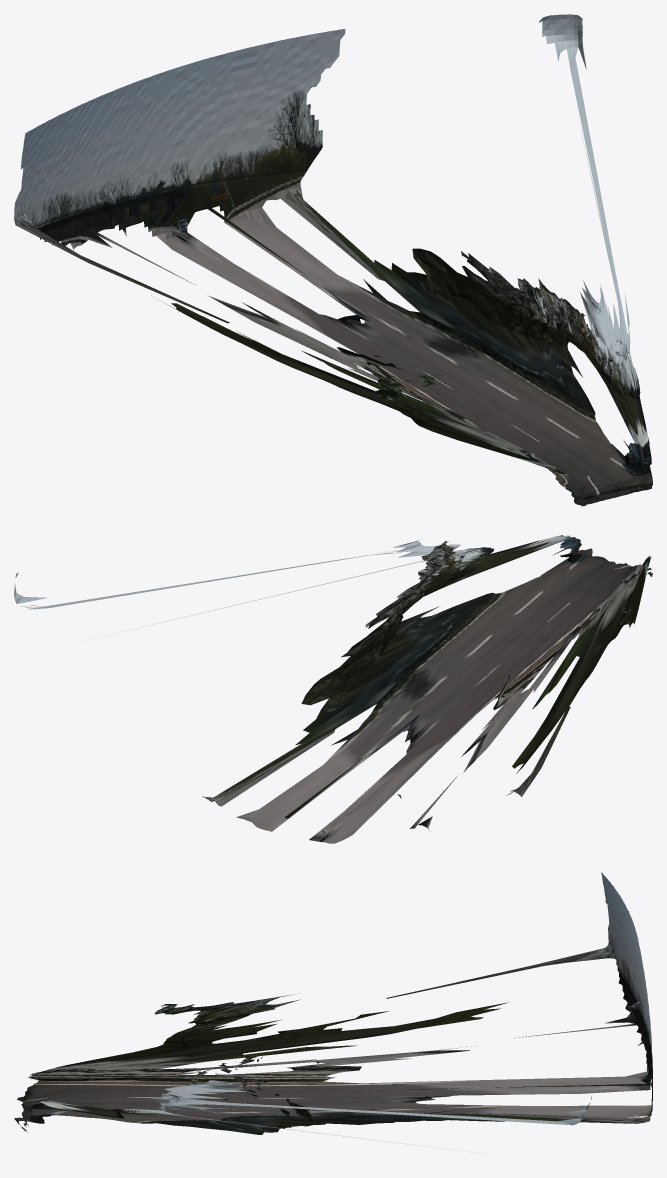
3 views of the same model, one above another, from view 1: azimuth 30°, elevation 25°; view 2: azimuth 150°, elevation 25°; view 3: azimuth 270°, elevation 25° (orthographic). The views are drawn at different scales.
Parts seen in each view (by area): view 1: defaultobject; view 2: defaultobject; view 3: defaultobject.
Boxes of the visible parts, x1=… form: defaultobject: x1=14, y1=14, x2=652, y2=506; defaultobject: x1=14, y1=535, x2=652, y2=843; defaultobject: x1=14, y1=872, x2=652, y2=1155.
Bounding box in the file's own units: 37.16 × 11.77 × 44.7.
1 material, 1 textured.
